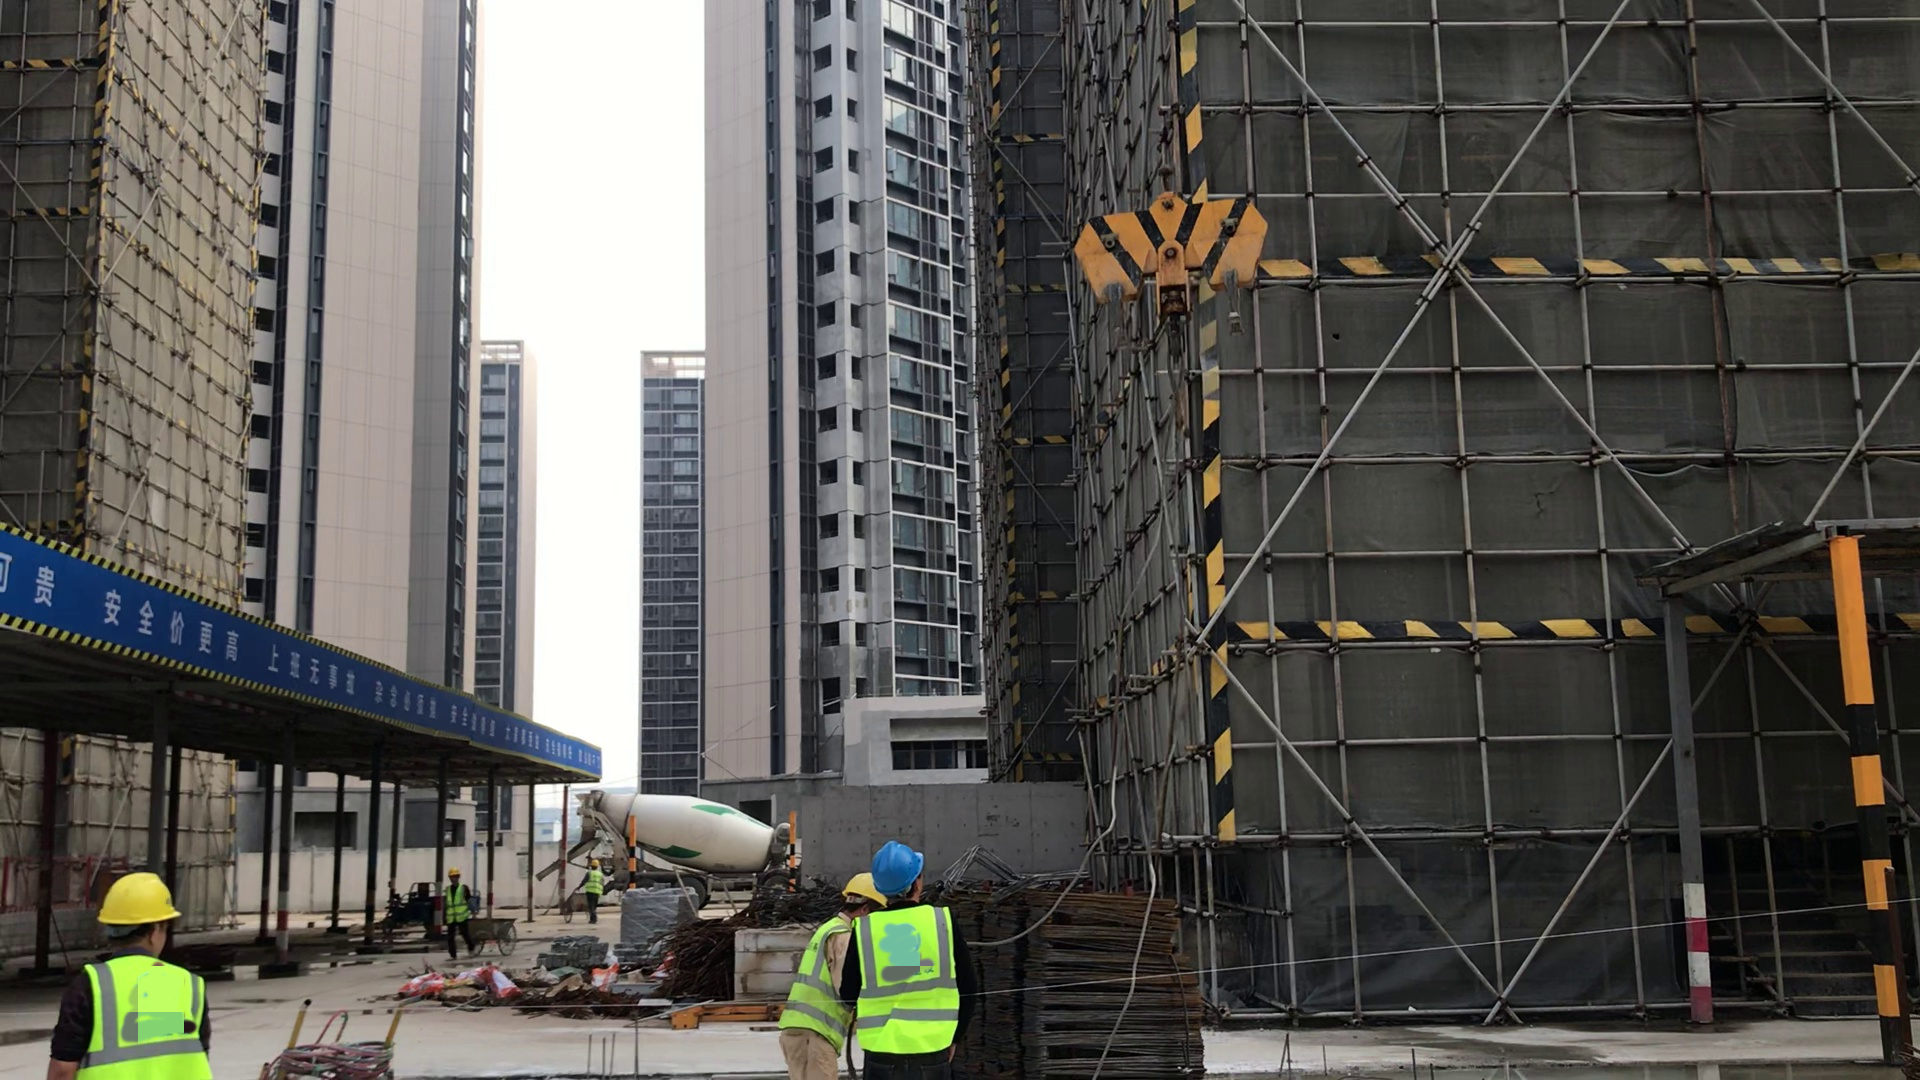helmet: (95, 872, 182, 924), (868, 841, 930, 897), (845, 870, 889, 913), (446, 868, 462, 876), (588, 858, 602, 867)
person: (38, 875, 247, 1080), (843, 842, 975, 1080), (781, 869, 891, 1080), (428, 868, 493, 963), (576, 859, 605, 924)
vest: (75, 956, 210, 1080), (856, 916, 956, 1047), (785, 911, 861, 1039), (442, 886, 471, 923), (587, 872, 603, 896)
